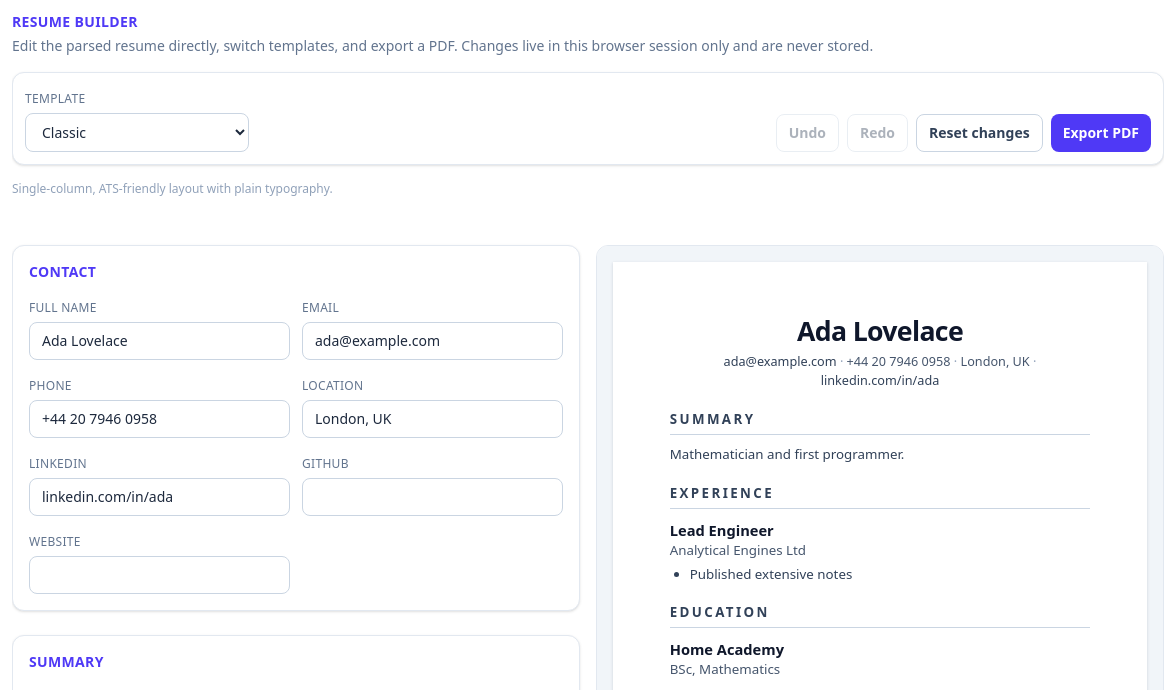
Test case: ResumeBuilder › blocks export while validation errors exist
Replace the text in the field labelled "Email" with "not-an-email" at {"x": 432, "y": 341}, box [302,322,563,360]
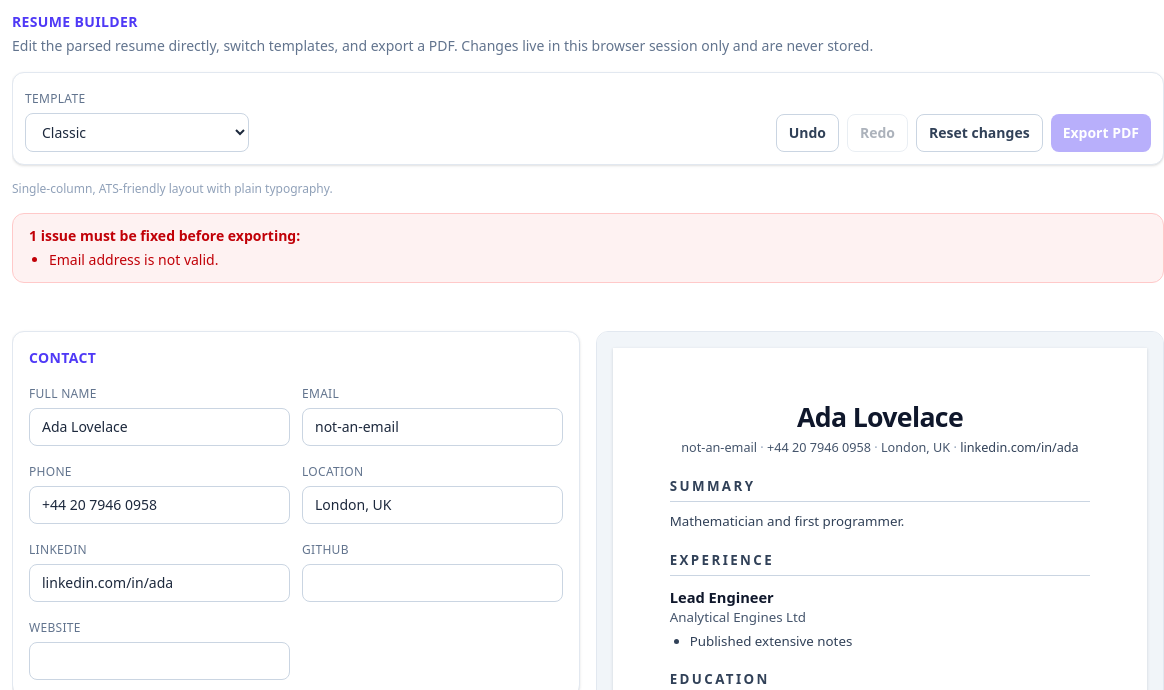
Expected: the message "1 issue must be fixed before exporting: Email address is not valid." is shown, [12,213,1163,283]
Expected: the button "Export PDF" is disabled, [1051,114,1151,152]
